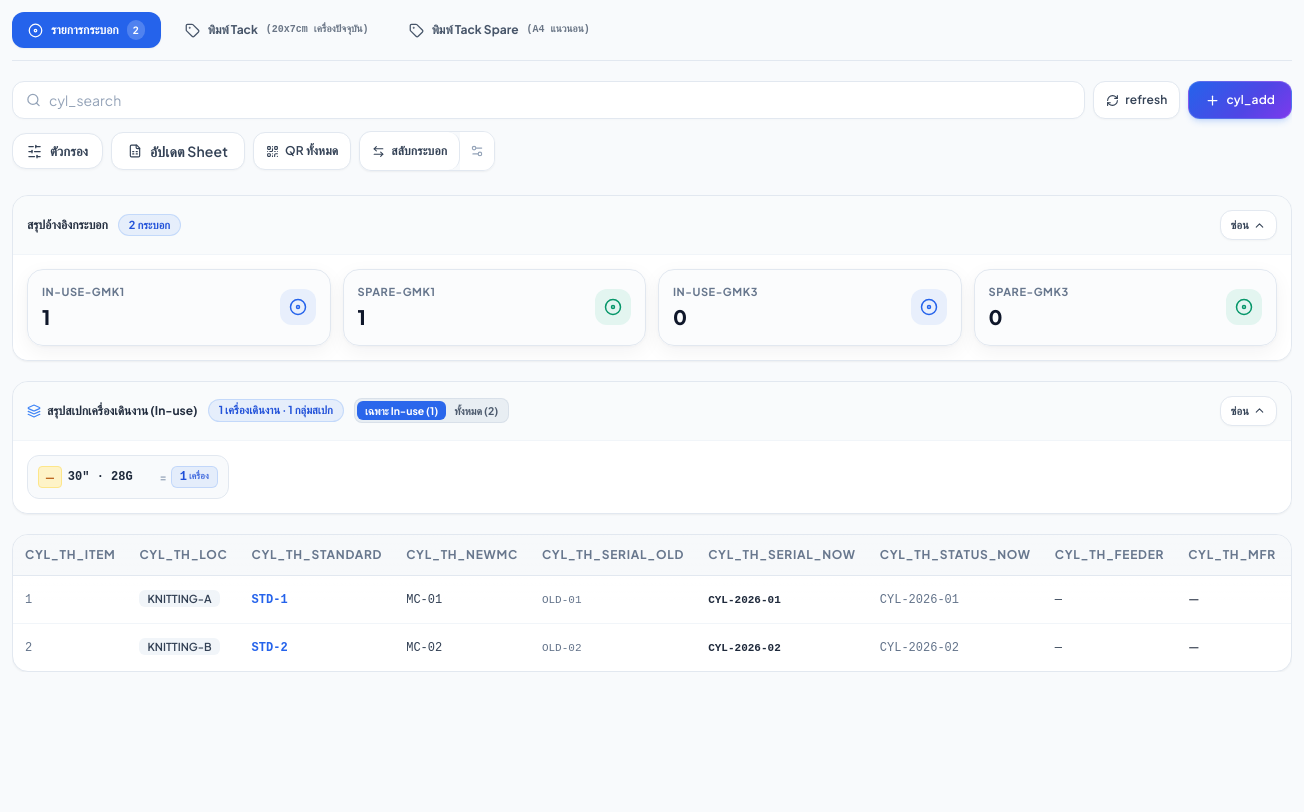
Test case: Cylinders Sub-tab "พิมพ์ Tack" (20cm x 7cm Machine Tag) Integration › switches to "พิมพ์ Tack" tab when clicking the sub-tab header
This screenshot has width=1304, height=812.
What coordinates should you click on to do the following:
click the button "พิมพ์ Tack (20x7cm เครื่องปัจจุบัน)"
I would click on:
 (277, 30)
Its box is x1=169 y1=14 x2=385 y2=46.
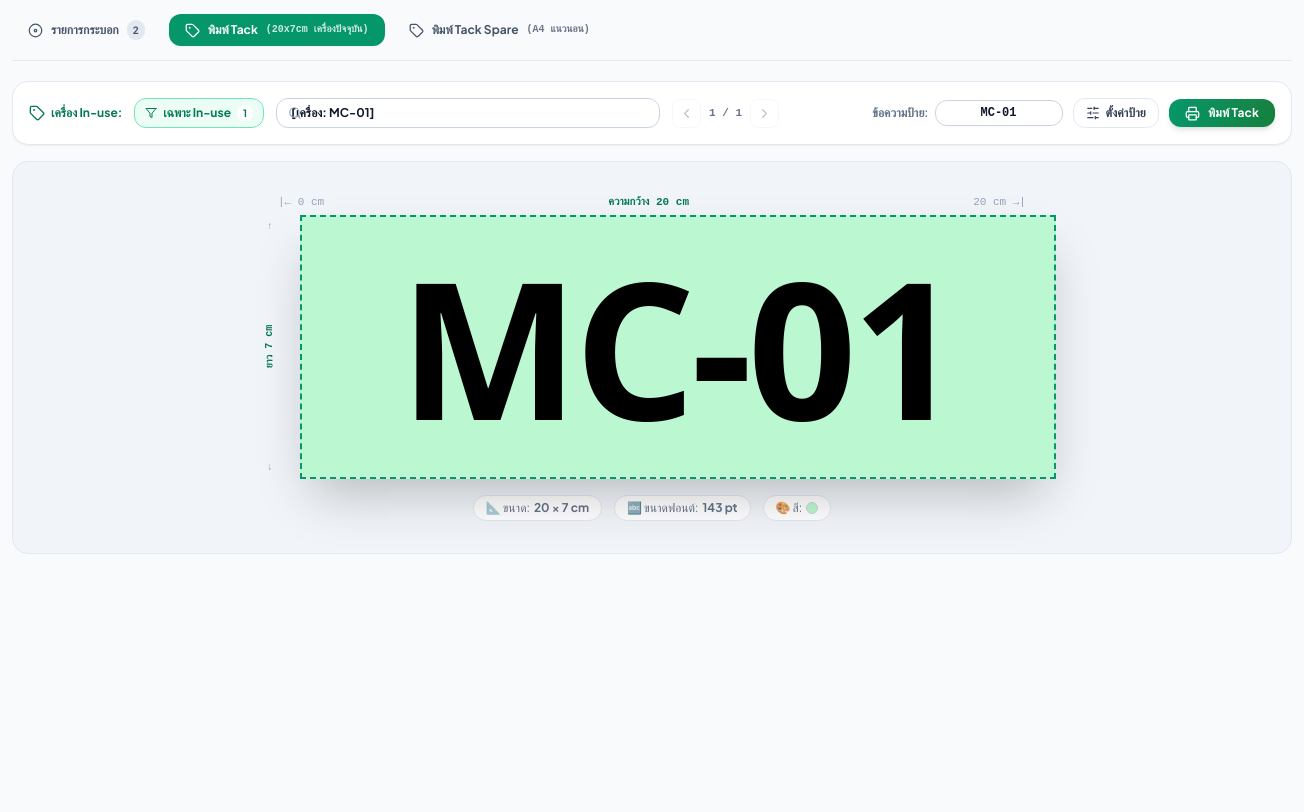
Expected: the button "ตั้งค่าป้าย" is shown, x1=1072 y1=98 x2=1159 y2=128
Expected: the text "เครื่อง In-use:" is shown, x1=51 y1=105 x2=122 y2=121
Expected: the button "พิมพ์ Tack" is shown, x1=1169 y1=99 x2=1275 y2=127
